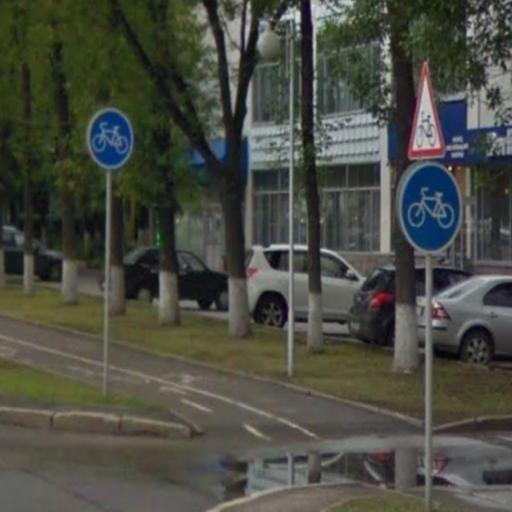traffic_sign: (398, 164, 467, 257), (405, 58, 451, 163), (85, 106, 137, 173)
